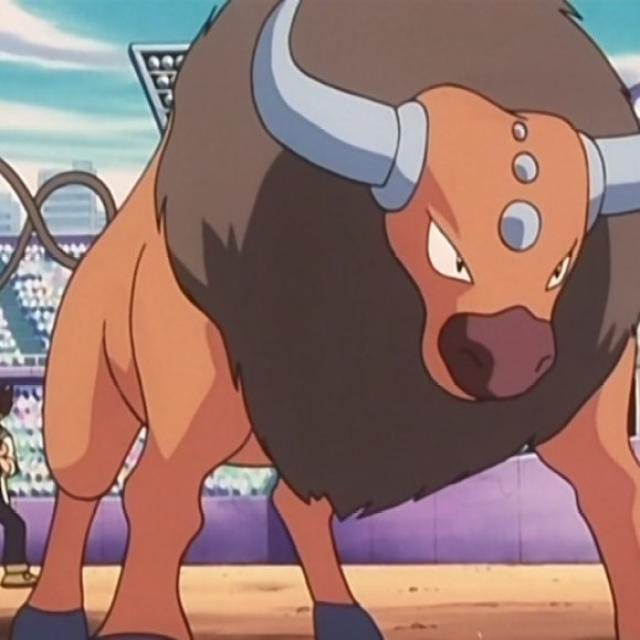Tauros: (139, 0, 640, 494)
